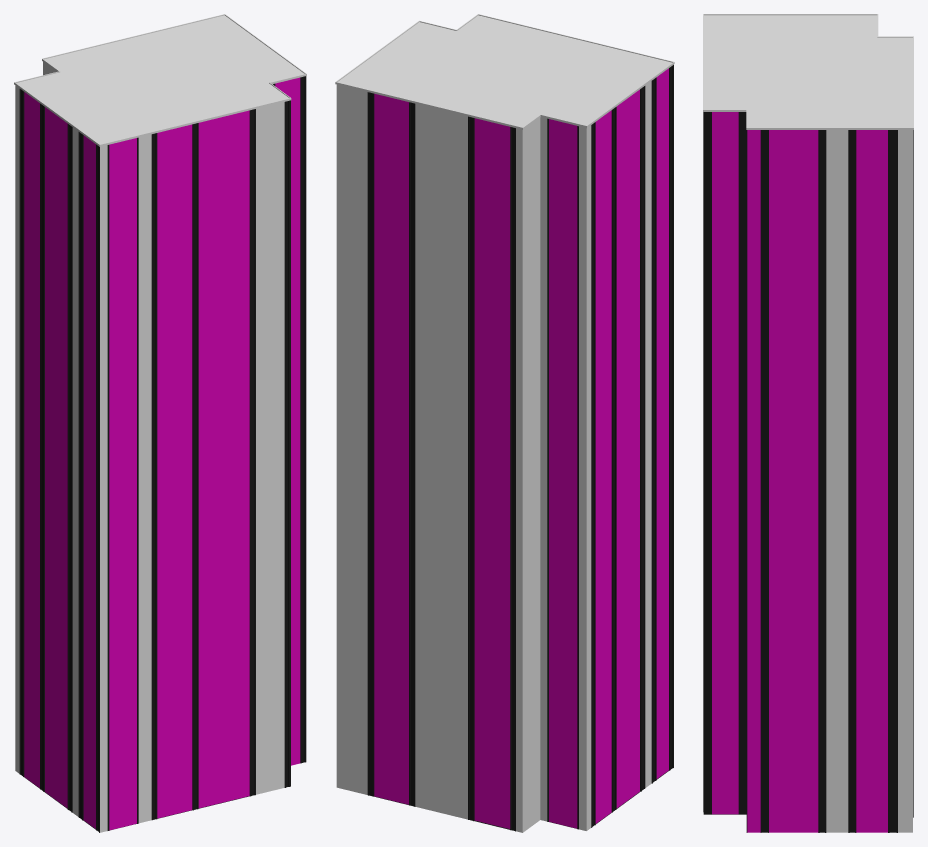
The picture shows the model from 3 angles, left to right: view 1: azimuth 30°, elevation 25°; view 2: azimuth 150°, elevation 25°; view 3: azimuth 270°, elevation 25°; orthographic projection. The views are drawn at different scales.
Parts seen in each view (by area): view 1: gb4_mesh.002; view 2: gb4_mesh.002; view 3: gb4_mesh.002.
Part boxes in pixels (<box>): gb4_mesh.002: <box>14,14,306,832</box>; gb4_mesh.002: <box>335,14,674,832</box>; gb4_mesh.002: <box>703,14,913,832</box>.
Bounding box in the file's own units: 6070 × 17500 × 4741.
